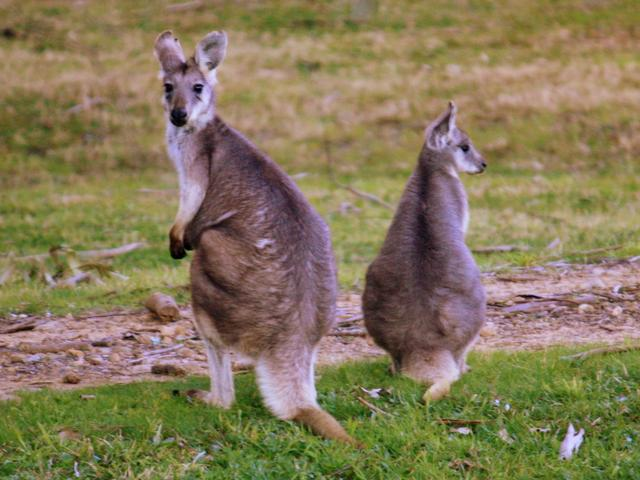kangaroo: (103, 24, 344, 428), (344, 75, 544, 429)
